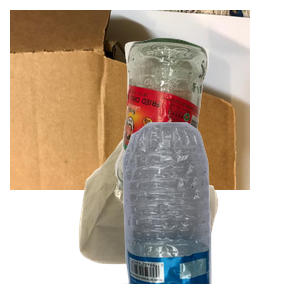cardboard: (10, 10, 250, 190)
glass: (112, 35, 300, 215)
plastic: (111, 120, 300, 300)
trash: (76, 124, 287, 300)
